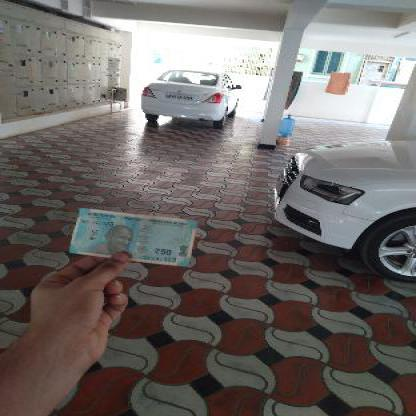New50Front: (71, 211, 193, 261)
